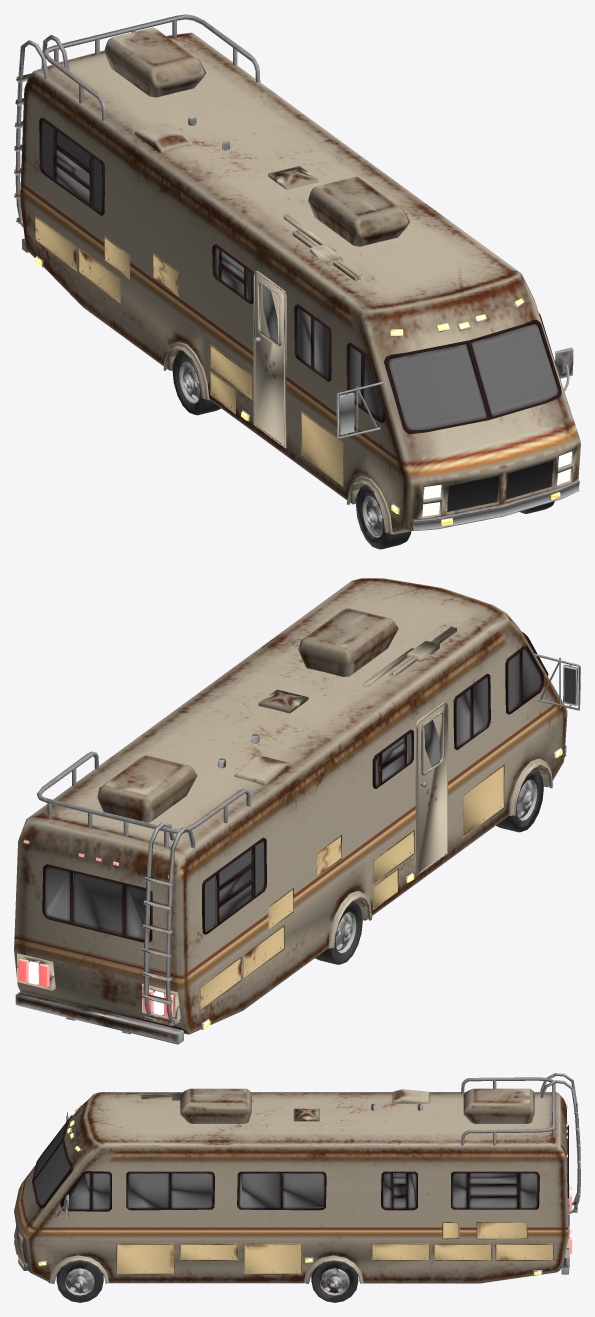
Rendered from breaking_rv.glb.
3 renders of one model, top to bottom at view 1: azimuth 30°, elevation 25°; view 2: azimuth 150°, elevation 25°; view 3: azimuth 270°, elevation 25°, orthographic. The views are drawn at different scales.
Visible parts, largest first — view 1: Cube.000; view 2: Cube.000; view 3: Cube.000.
Boxes of the visible parts, x1,y1,x2,y2 form: Cube.000: (14,14,580,549); Cube.000: (14,578,580,1044); Cube.000: (14,1073,580,1302).
Size of the model in its own units: 216 by 226 by 649.
9 materials, 4 textured.
